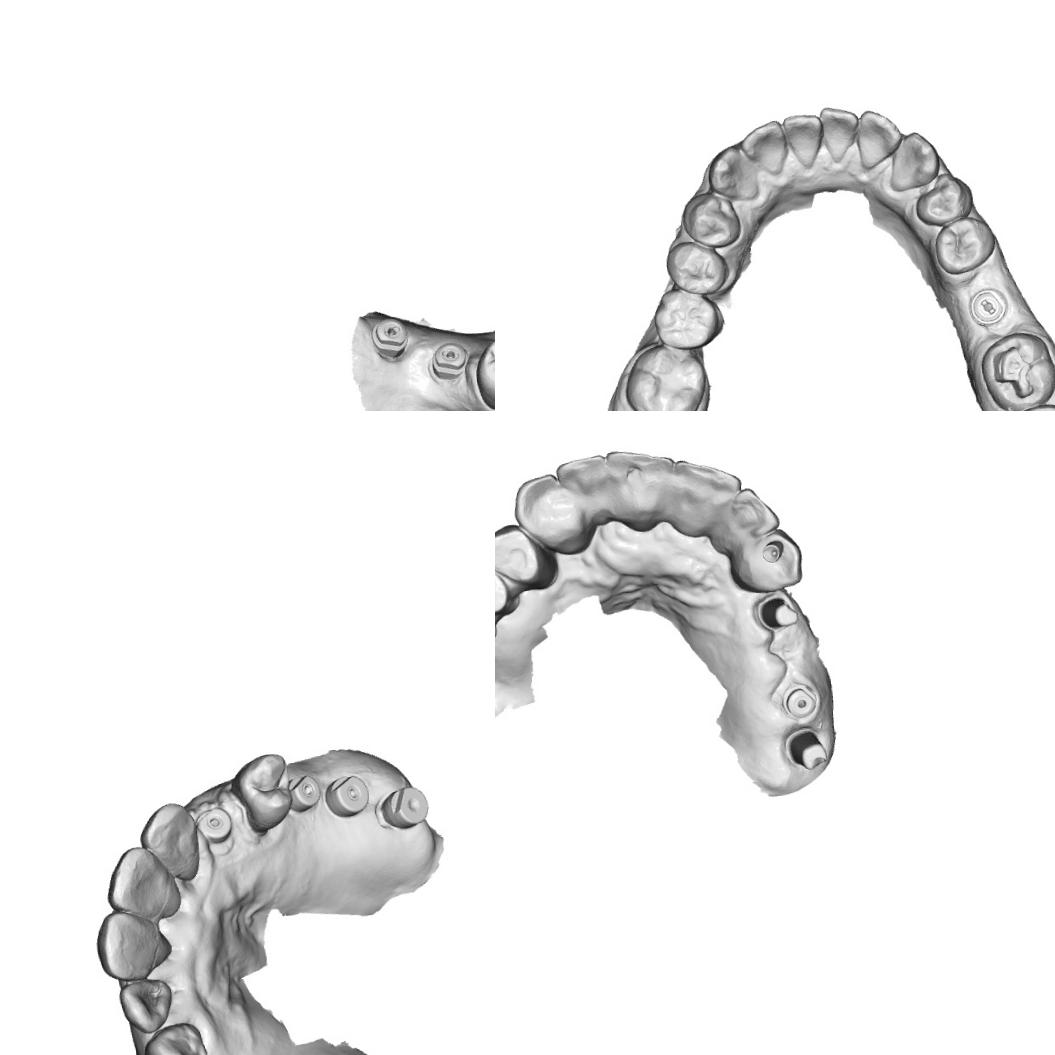abutment: (750, 588, 802, 634), (783, 725, 830, 771)
canine: (510, 470, 591, 558), (730, 526, 806, 594), (885, 128, 942, 194), (704, 144, 760, 202), (138, 1018, 210, 1055)
implant: (374, 784, 430, 832), (322, 773, 371, 819), (780, 682, 819, 720), (195, 805, 233, 843), (289, 772, 323, 813)
implant_minus: (368, 313, 410, 362), (965, 284, 1010, 328), (426, 338, 470, 382)
incisor: (668, 454, 745, 540), (603, 444, 678, 532), (92, 906, 174, 983), (102, 842, 182, 913), (138, 799, 202, 884), (705, 484, 782, 553), (554, 452, 612, 528), (115, 974, 175, 1034), (853, 105, 905, 170), (736, 118, 788, 178), (816, 102, 862, 165), (780, 111, 826, 170)
inlay: (987, 341, 1042, 403)
molar: (621, 341, 712, 411)
premolar: (226, 750, 294, 837), (651, 284, 729, 351), (930, 214, 998, 276), (495, 519, 553, 590), (663, 236, 730, 296), (679, 188, 742, 250), (912, 170, 975, 229), (472, 334, 495, 411), (495, 553, 520, 618)
